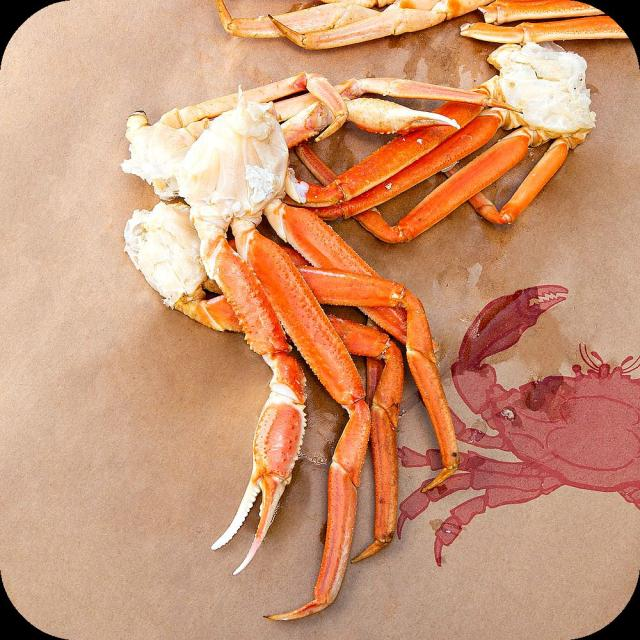crab: (98, 70, 506, 426)
